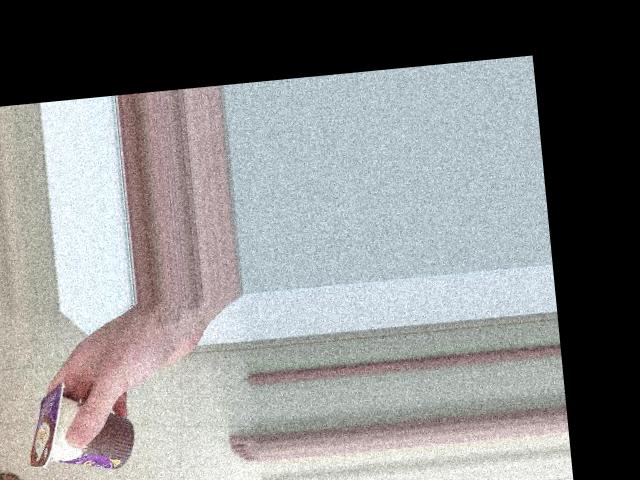milky: (28, 388, 146, 476)
